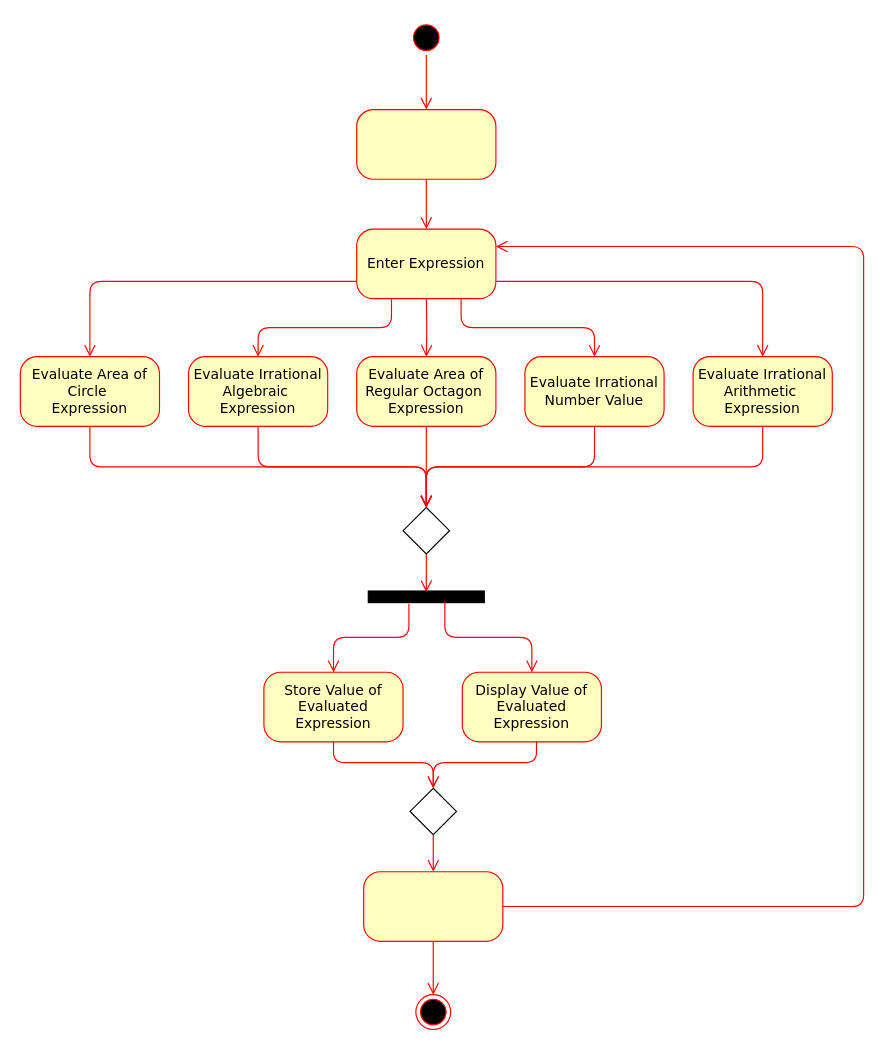
Some shapes in this 896 by 1050 pixel diagram are drawn without their labels. The shapes that lost their labels are listed below. From the top down, each one's box as (x1, y1, x2, y2) in pixels, then its label:
(356, 108, 496, 179): Turn on Calculator
(362, 871, 503, 941): Clear Display
